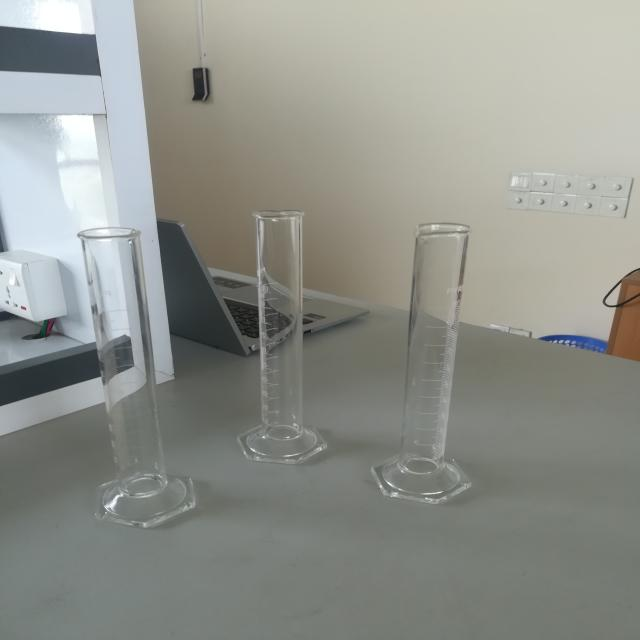Measuring_Cylinder: (15, 202, 224, 551), (357, 181, 509, 533), (215, 189, 351, 487)
